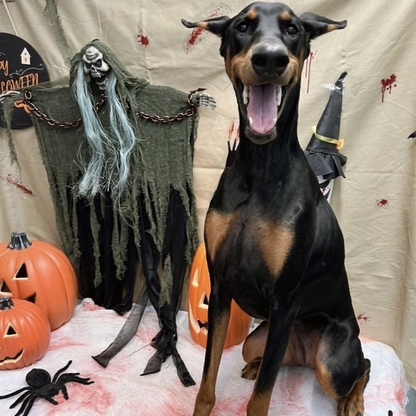doberman: (179, 6, 389, 416)
